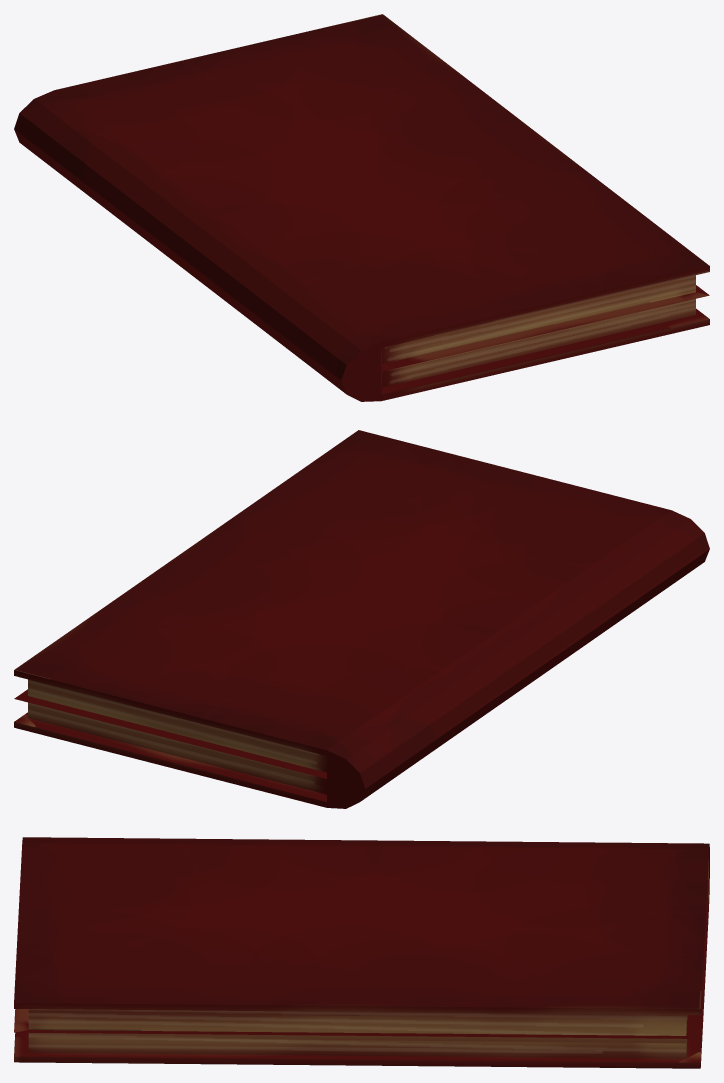
The model's file is Book-1.fbx.
3 views of the same model, one above another, from view 1: azimuth 30°, elevation 25°; view 2: azimuth 150°, elevation 25°; view 3: azimuth 270°, elevation 25° (orthographic). The views are drawn at different scales.
Visible parts, largest first — view 1: Book-1.003; view 2: Book-1.003; view 3: Book-1.003.
Part boxes in pixels (left/top/right/bottom): Book-1.003: left=14, top=14, right=709, bottom=401; Book-1.003: left=14, top=430, right=709, bottom=808; Book-1.003: left=14, top=837, right=709, bottom=1068.
Size of the model in its own units: 288 by 43.08 by 457.
1 material, 1 textured.
